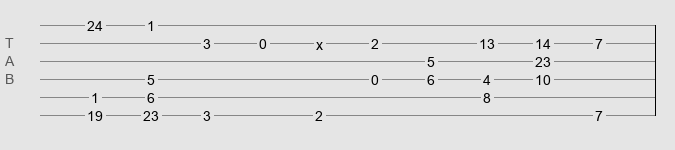0: (259, 36, 267, 46), (371, 72, 379, 82)
1: (91, 90, 99, 100), (147, 18, 155, 28)
10: (535, 72, 551, 82)
13: (479, 36, 495, 46)
14: (535, 36, 551, 46)
19: (87, 108, 103, 118)
2: (315, 108, 323, 118), (371, 36, 379, 46)
23: (143, 108, 159, 118), (535, 54, 551, 64)
24: (87, 18, 103, 28)
3: (203, 36, 211, 46), (203, 108, 211, 118)
4: (483, 72, 491, 82)
5: (147, 72, 155, 82), (427, 54, 435, 64)
6: (147, 90, 155, 100), (427, 72, 435, 82)
7: (595, 36, 603, 46), (595, 108, 603, 118)
8: (483, 90, 491, 100)
x: (316, 37, 323, 45)
